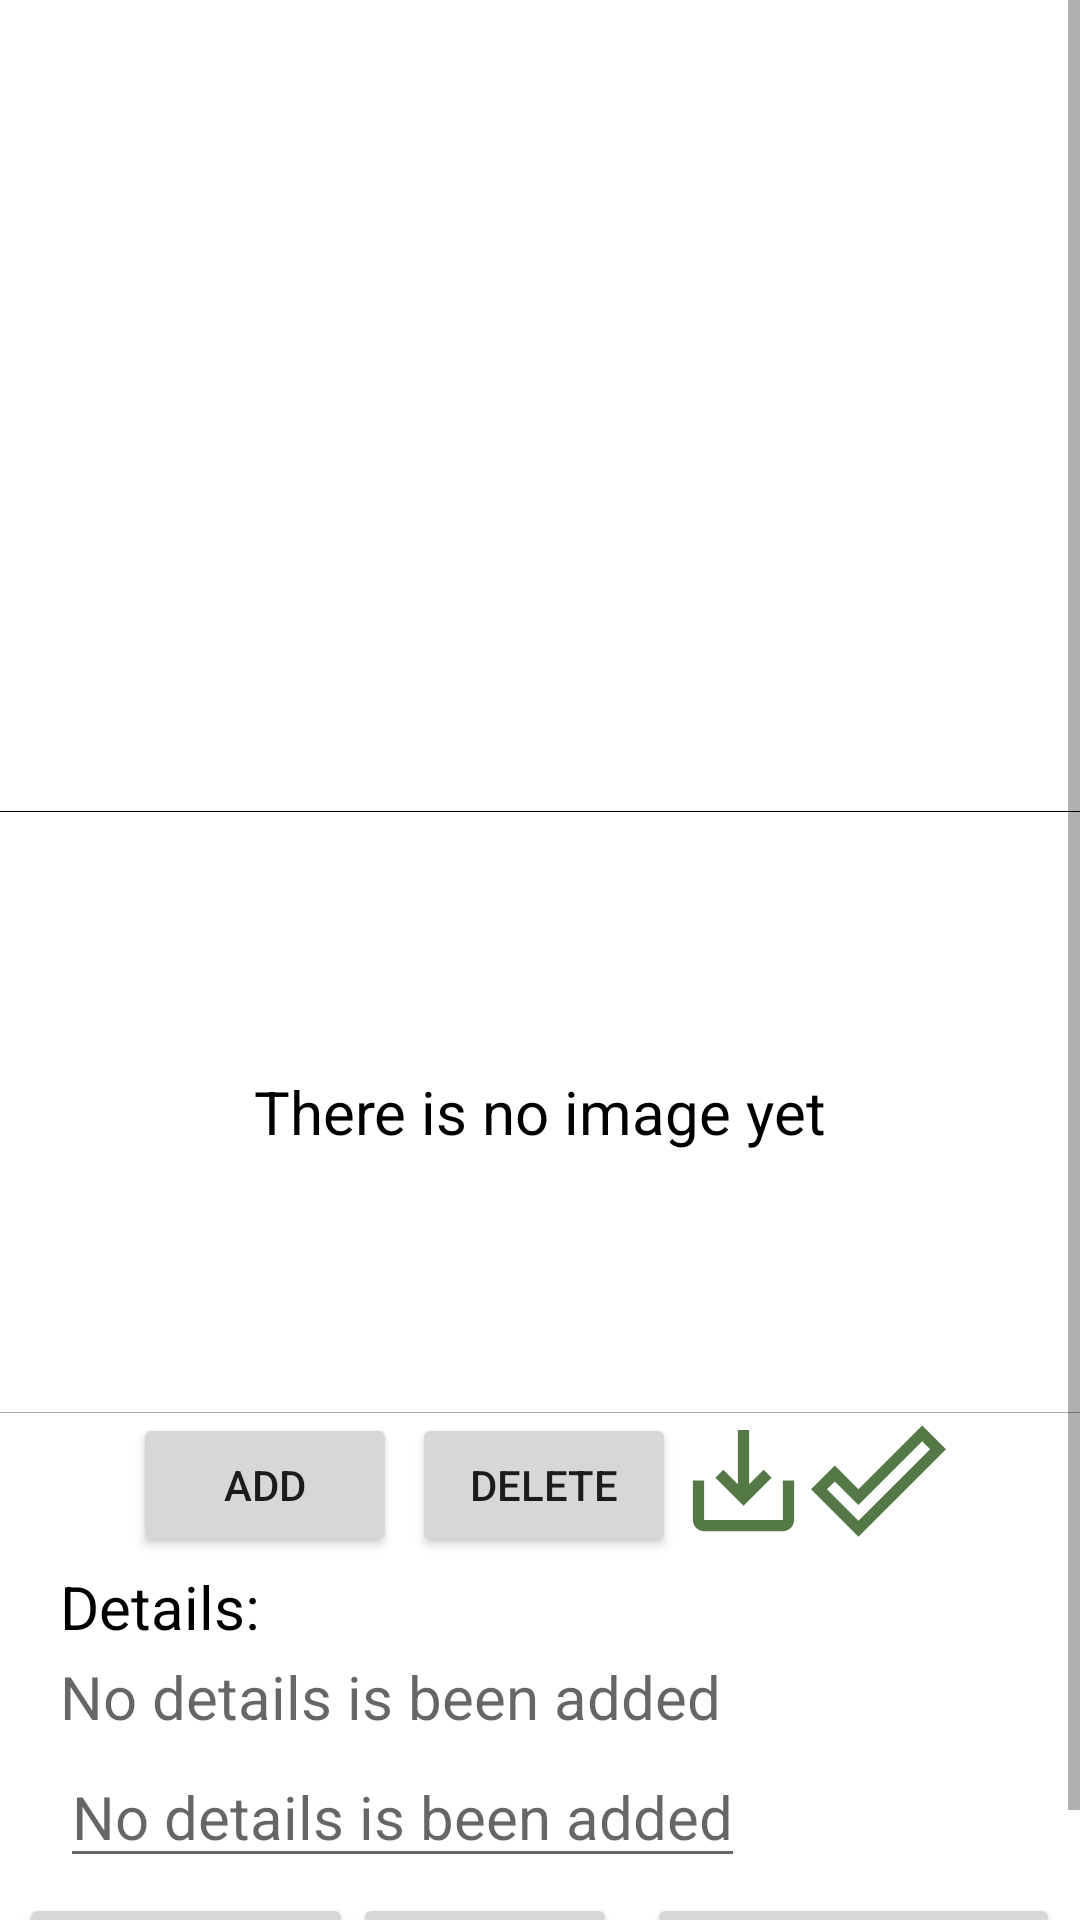

Named icons in this screenshot (1080x1920) and their centers, [x,y]:
download: [743,1481]
